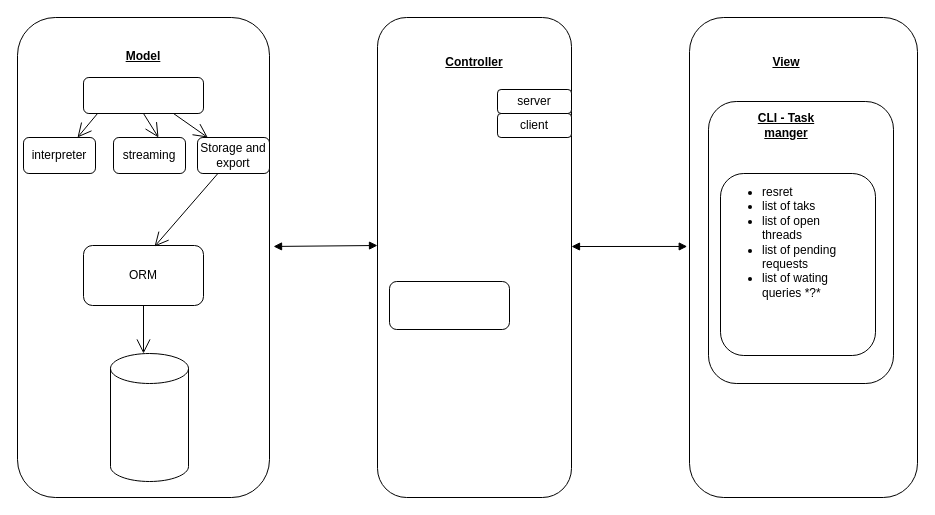
This 935x515 diagram has some shape labels left out. Each missing label, with the box of its shape:
services: (82, 76, 204, 114)
SQL DB: (110, 352, 188, 482)
tread pool: (388, 280, 510, 330)
